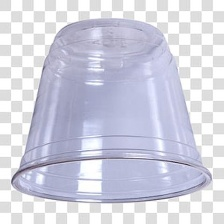glass: (7, 16, 221, 206)
